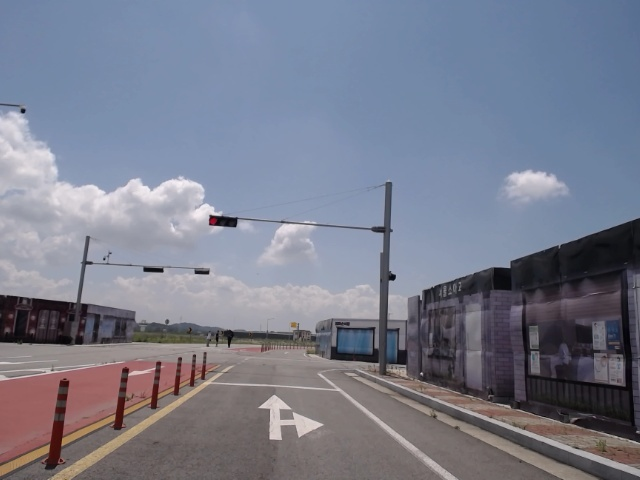red_3: (208, 214, 238, 228)
